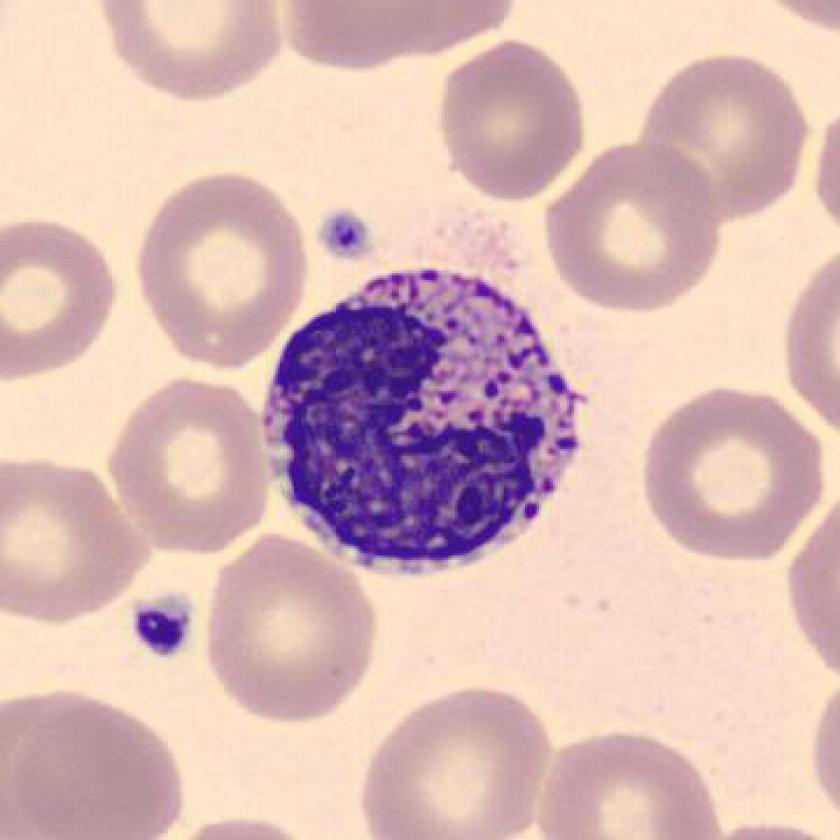basophil: (255, 263, 587, 573)
